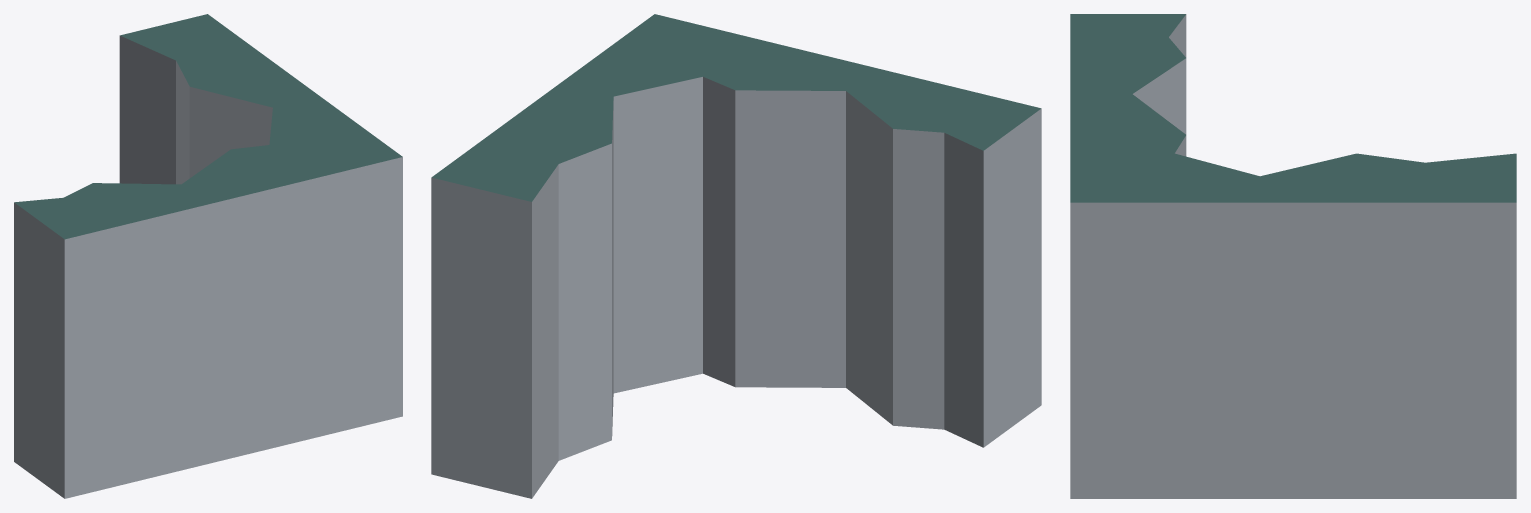
Rendered from Grey_Cliff_Inside_Corner_Green_Top_01.obj.
The picture shows the model from 3 angles, left to right: view 1: azimuth 30°, elevation 25°; view 2: azimuth 150°, elevation 25°; view 3: azimuth 270°, elevation 25°; orthographic projection. The views are drawn at different scales.
Parts seen in each view (by area): view 1: Mesh1_Grey_Cliff_Bottom_Green_Top_Model; view 2: Mesh1_Grey_Cliff_Bottom_Green_Top_Model; view 3: Mesh1_Grey_Cliff_Bottom_Green_Top_Model.
Boxes of the visible parts, <box> form: Mesh1_Grey_Cliff_Bottom_Green_Top_Model: <box>14,14,402,498</box>; Mesh1_Grey_Cliff_Bottom_Green_Top_Model: <box>431,14,1041,498</box>; Mesh1_Grey_Cliff_Bottom_Green_Top_Model: <box>1070,14,1516,498</box>.
Bounding box in the file's own units: 3 × 2.2 × 3.
